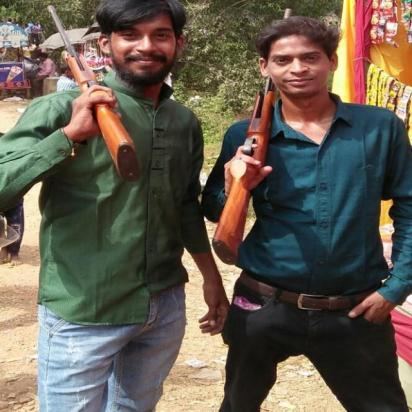Gun: (210, 7, 294, 267), (45, 5, 144, 184)
